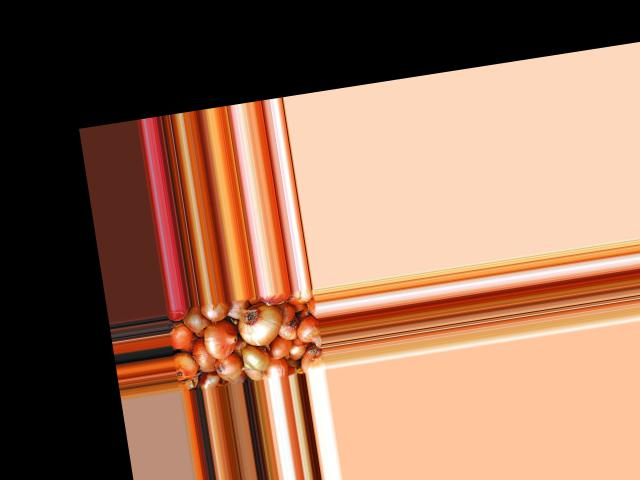onion: (212, 351, 243, 381)
